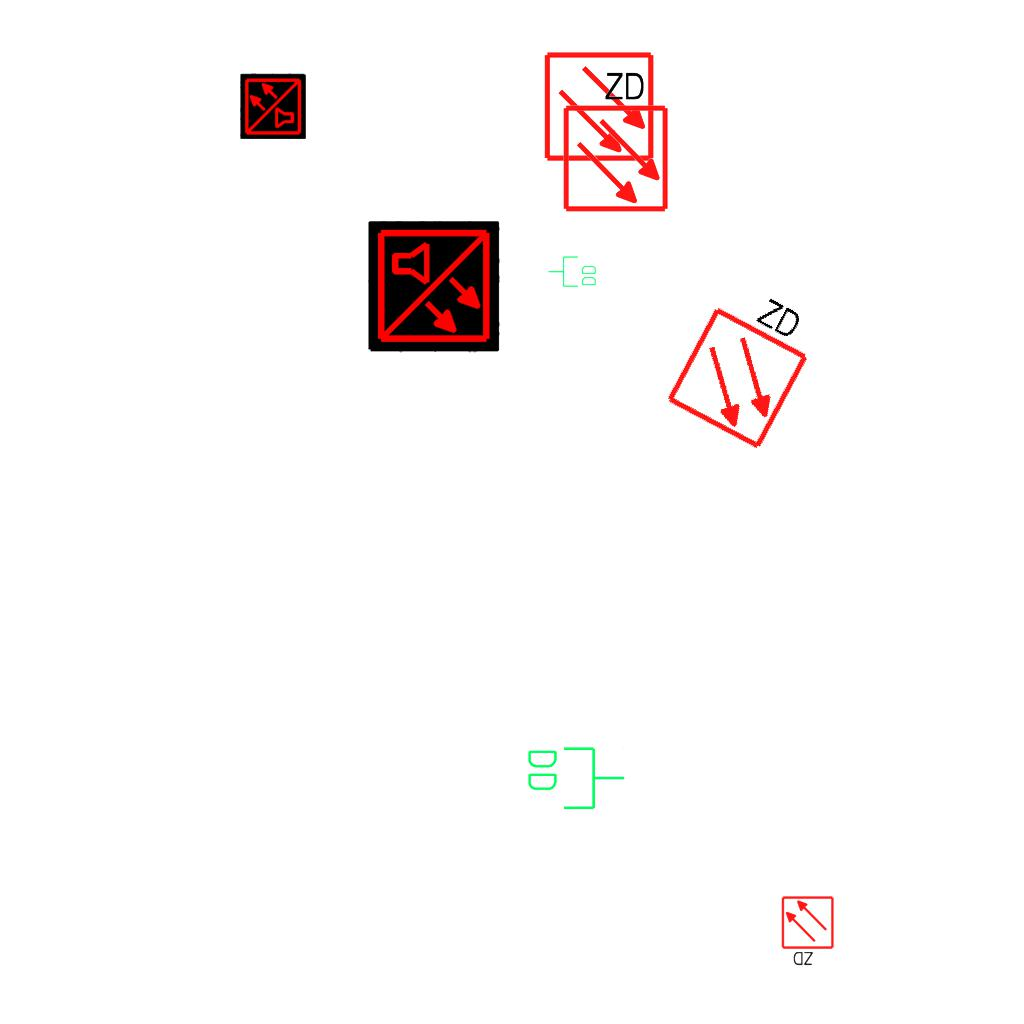Datenanschluss_zweifach: (524, 743, 627, 812), (547, 255, 598, 289)
OKW_Multisensormelder_(Kombination_optischer_Rauch-Kahlenmonoxid_Waerme-Melder): (368, 221, 500, 353), (240, 73, 306, 139)
RMO_Rauchmelder_optischer: (543, 50, 656, 163)
ZD_Melder_in_Zwischendecke_mit_Revisionsoeffnung_mind_40_x_40_cm: (659, 267, 831, 454), (557, 65, 671, 214), (780, 895, 837, 969)
